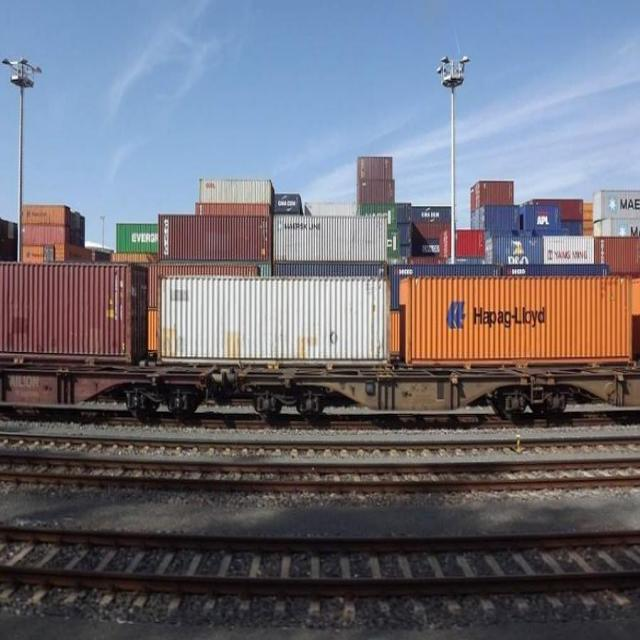container: (154, 272, 393, 368), (397, 272, 634, 366), (0, 260, 150, 361), (156, 209, 273, 265), (273, 213, 390, 265), (198, 176, 274, 203), (483, 233, 544, 266), (593, 235, 640, 274), (591, 185, 640, 220), (544, 234, 594, 265), (518, 203, 563, 234), (116, 221, 158, 253), (476, 178, 516, 208), (20, 203, 72, 226), (356, 154, 394, 182), (356, 180, 396, 205)
flatcar: (226, 364, 539, 427), (0, 360, 217, 426), (537, 366, 640, 426)
